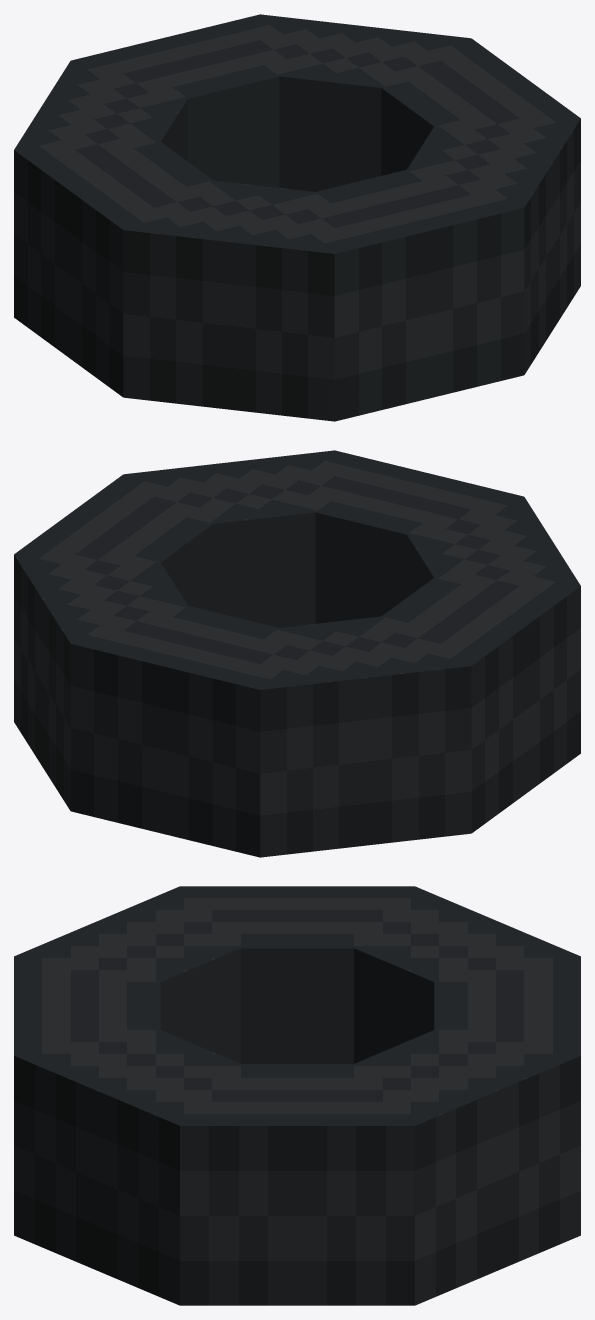
Rendered from Tire.fbx.
3 views of the same model, one above another, from view 1: azimuth 30°, elevation 25°; view 2: azimuth 150°, elevation 25°; view 3: azimuth 270°, elevation 25° (orthographic). The views are drawn at different scales.
Visible parts, largest first — view 1: tire; view 2: tire; view 3: tire.
Part boxes in pixels (x1=…): tire: x1=14, y1=14, x2=580, y2=421; tire: x1=14, y1=450, x2=580, y2=857; tire: x1=14, y1=886, x2=580, y2=1305.
Bounding box in the file's own units: 31.25 × 10.94 × 31.25.
Materials: 1 (1 with a texture image).
